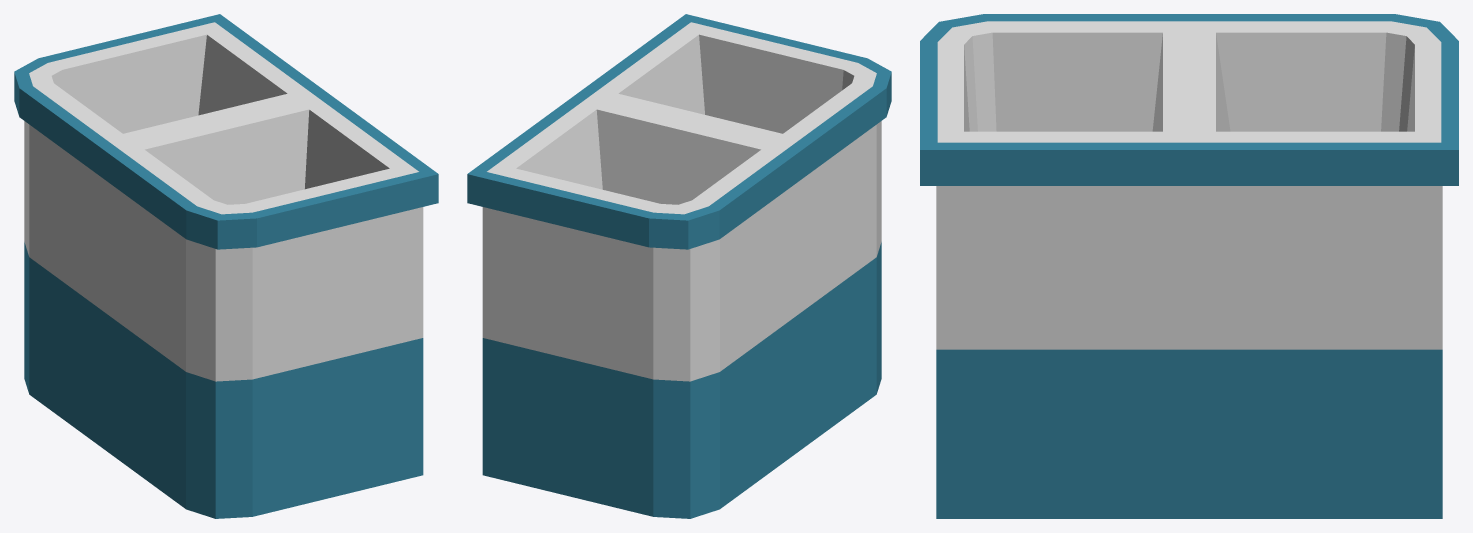
File: 3D_workstation_trash.fbx
3 views of the same model, side by side, from view 1: azimuth 30°, elevation 25°; view 2: azimuth 150°, elevation 25°; view 3: azimuth 270°, elevation 25° (orthographic). The views are drawn at different scales.
Visible parts, largest first — view 1: 3D_workstation_trash; view 2: 3D_workstation_trash; view 3: 3D_workstation_trash.
Part boxes in pixels (x1,y1,x2,y2): 3D_workstation_trash: (14, 14, 438, 518); 3D_workstation_trash: (467, 14, 891, 518); 3D_workstation_trash: (920, 14, 1458, 518).
Bounding box in the file's own units: 0.545 × 0.6986 × 0.9114.
